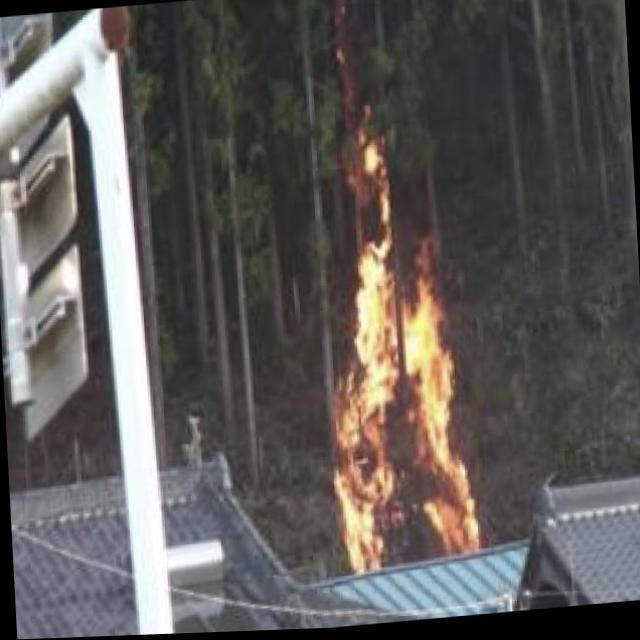Fire: (315, 240, 485, 585)
